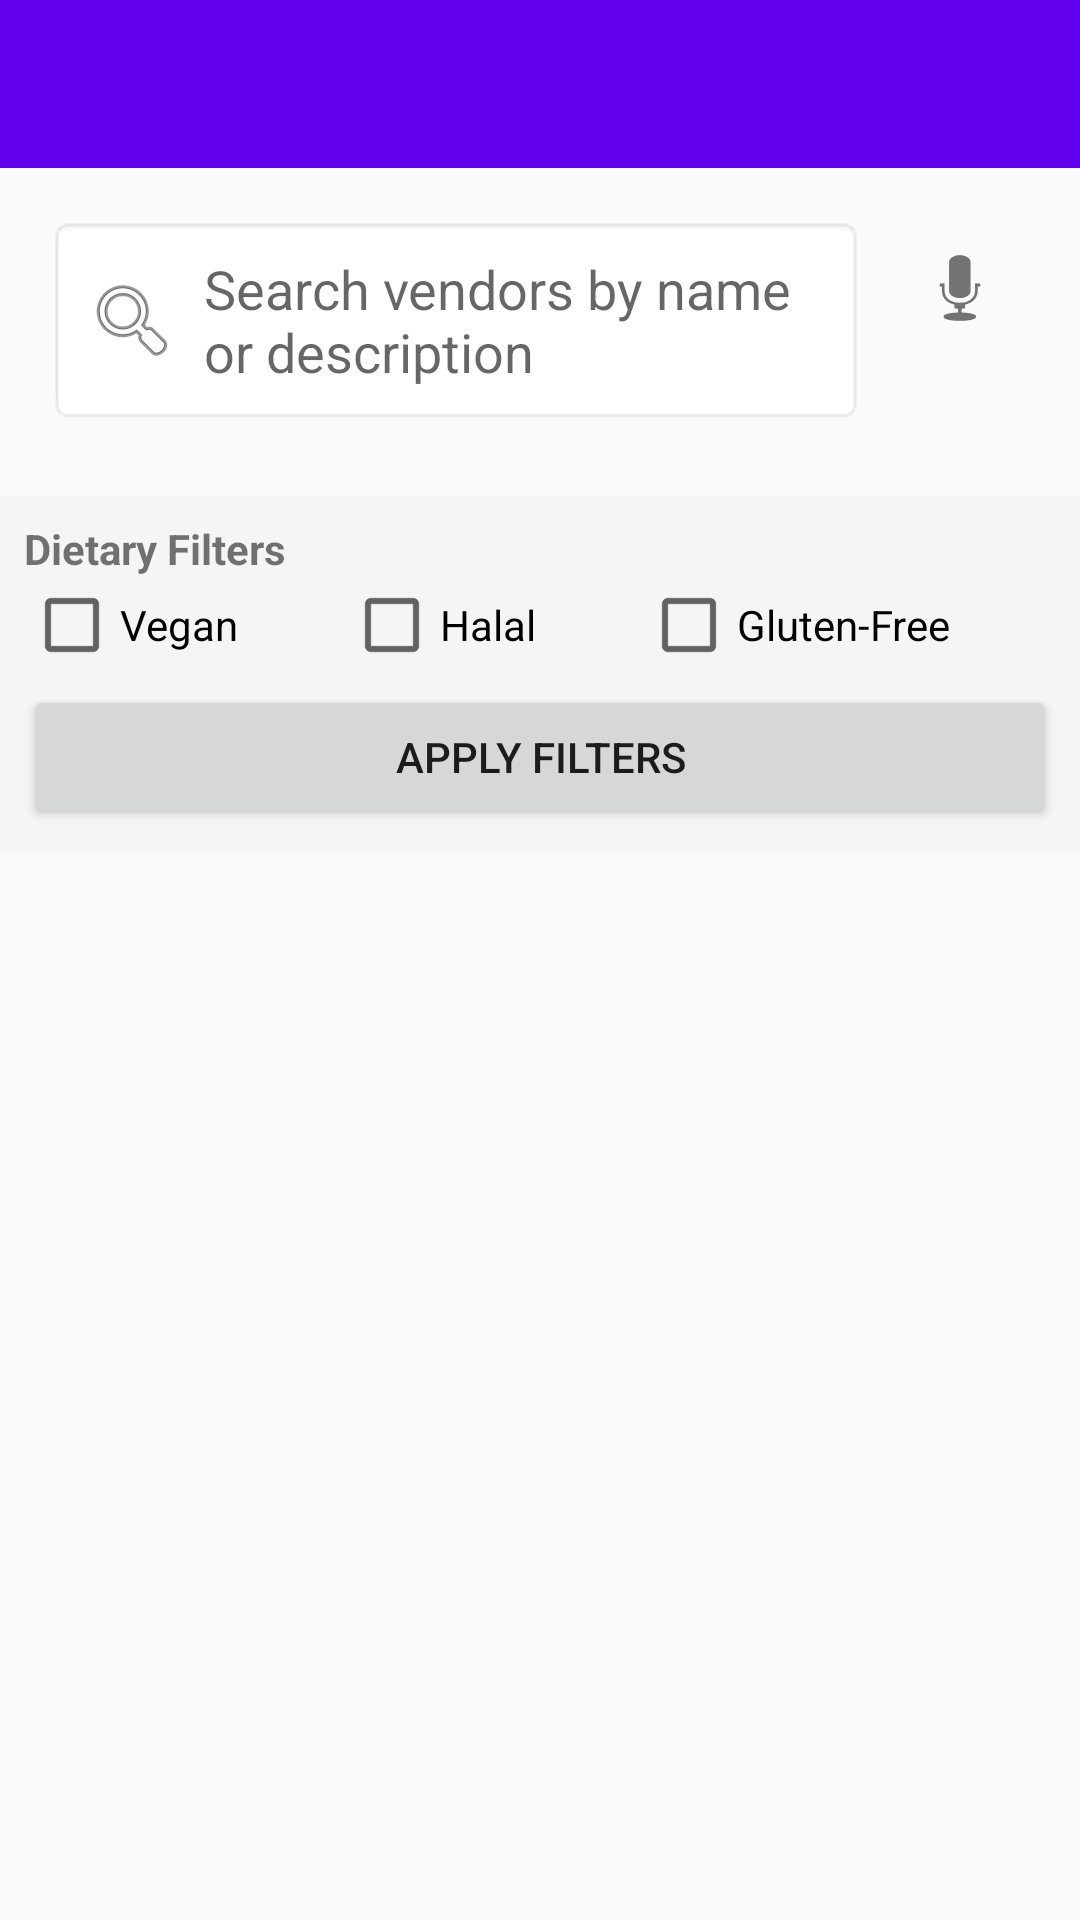

Locate icon controls on the screen. Image size 1080*1920, boxes as [left=x1, top=y1, right=x2, bottom=y2].
Voice Search: [left=939, top=255, right=981, bottom=321]
